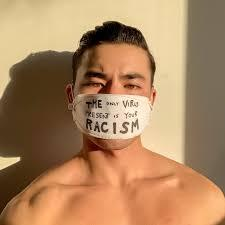mask: (64, 87, 156, 142)
